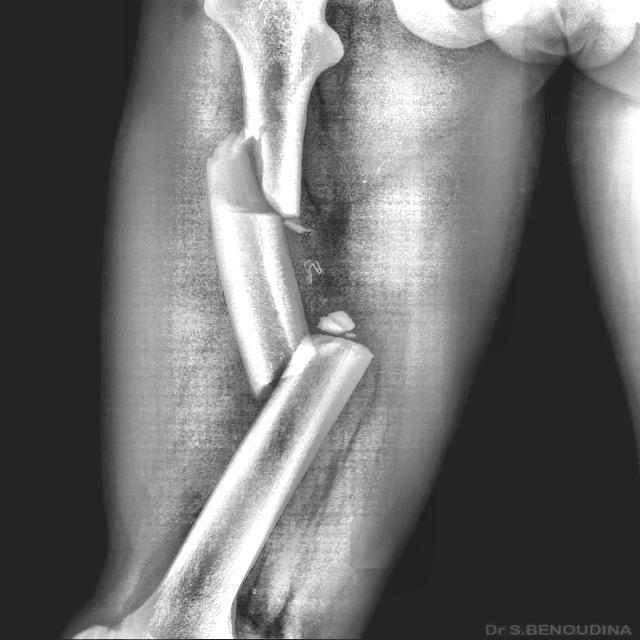fracture: (204, 124, 312, 236), (252, 309, 376, 403)
